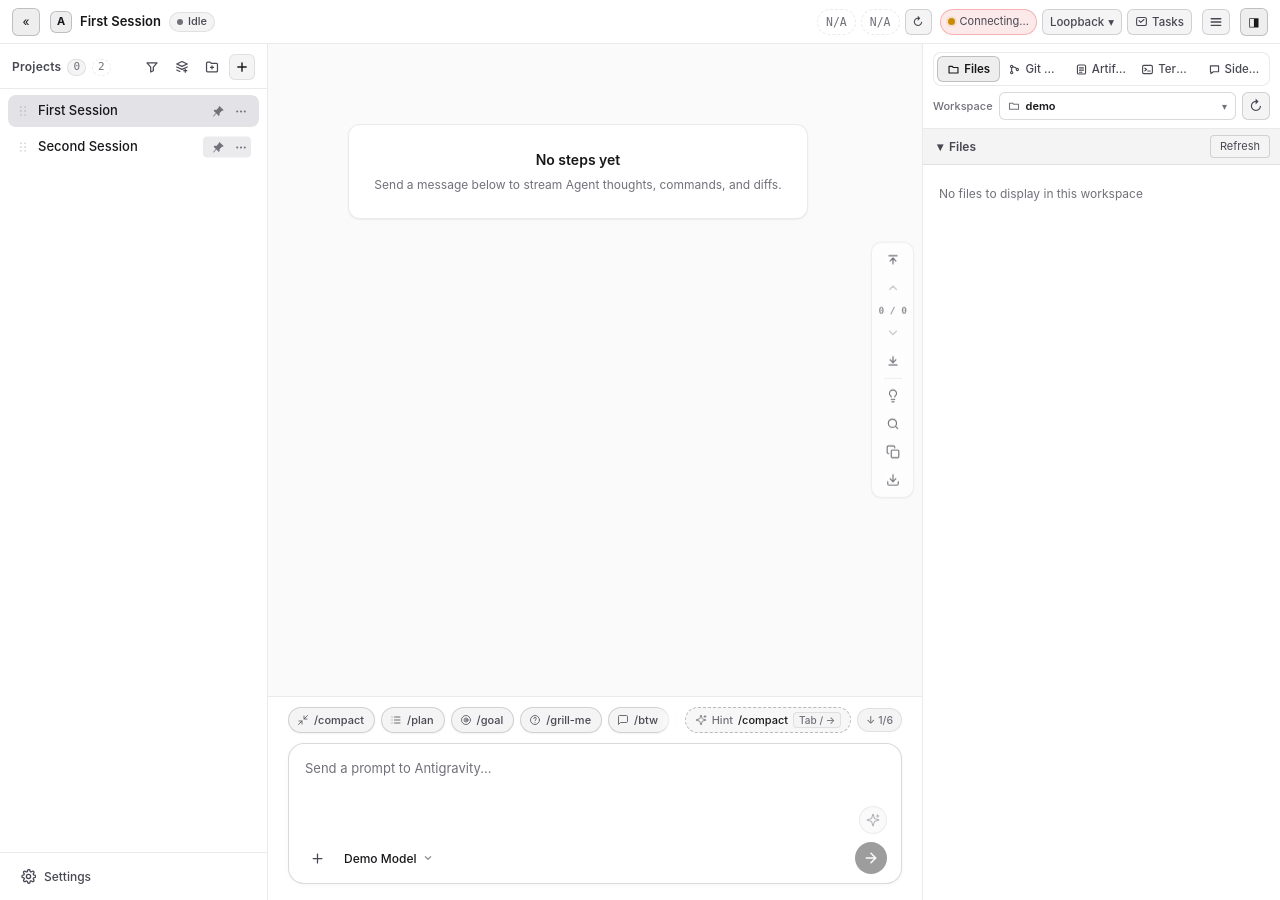
Test: App optimistic send flow › handles 503 HOST_DELETE_UNAVAILABLE fallback to local_hide with focus fallback, and SSE state:session.org@1 sync
Expected: the text with test id "topbar-session-title" reads "First Session", top-left (80, 13), bottom-right (161, 29)
Click the button with test id "session-actions-sess-1".
click(240, 111)  # box top-left (230, 100), bottom-right (251, 122)
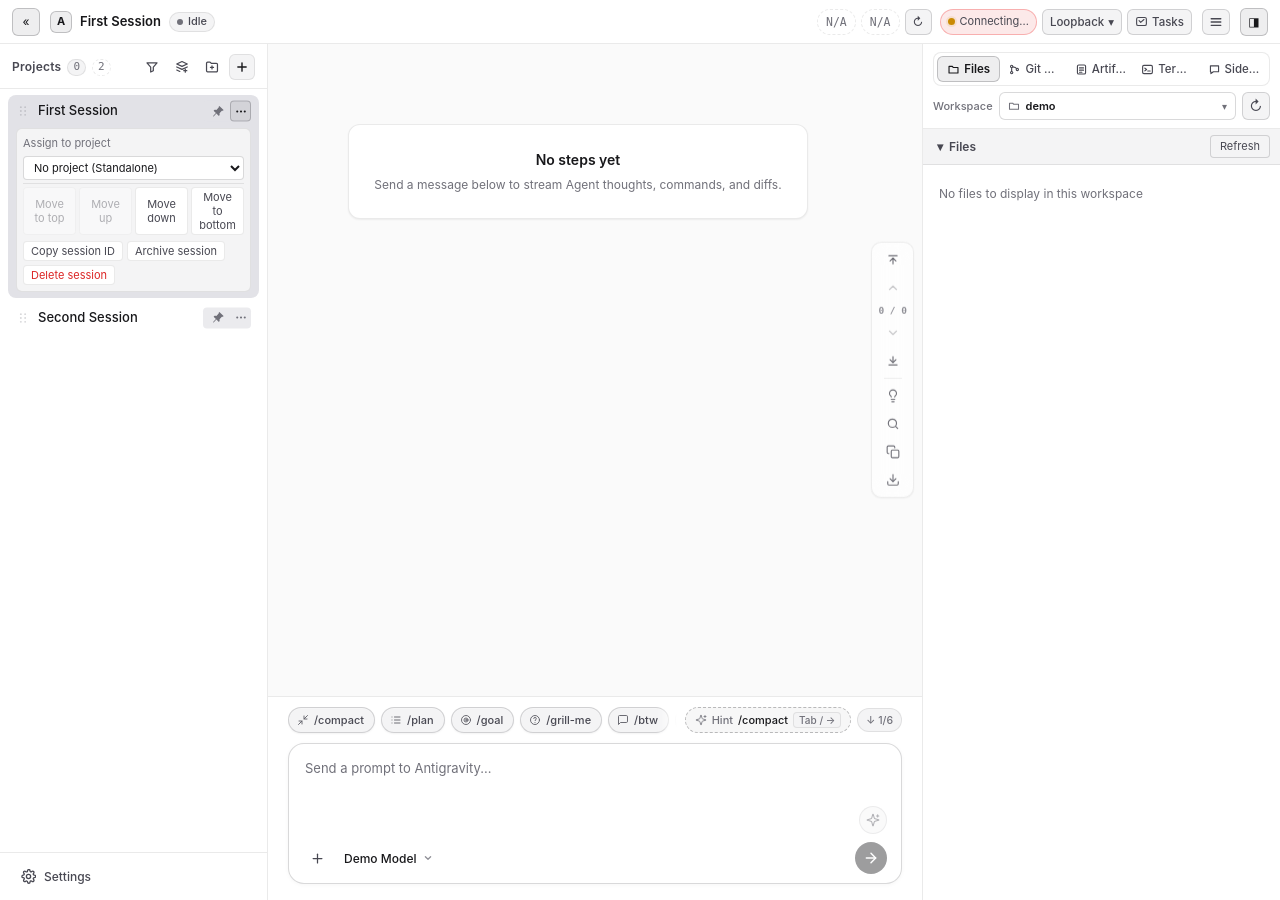
Click the button with test id "delete-session-sess-1".
click(69, 274)  # box top-left (23, 264), bottom-right (115, 284)
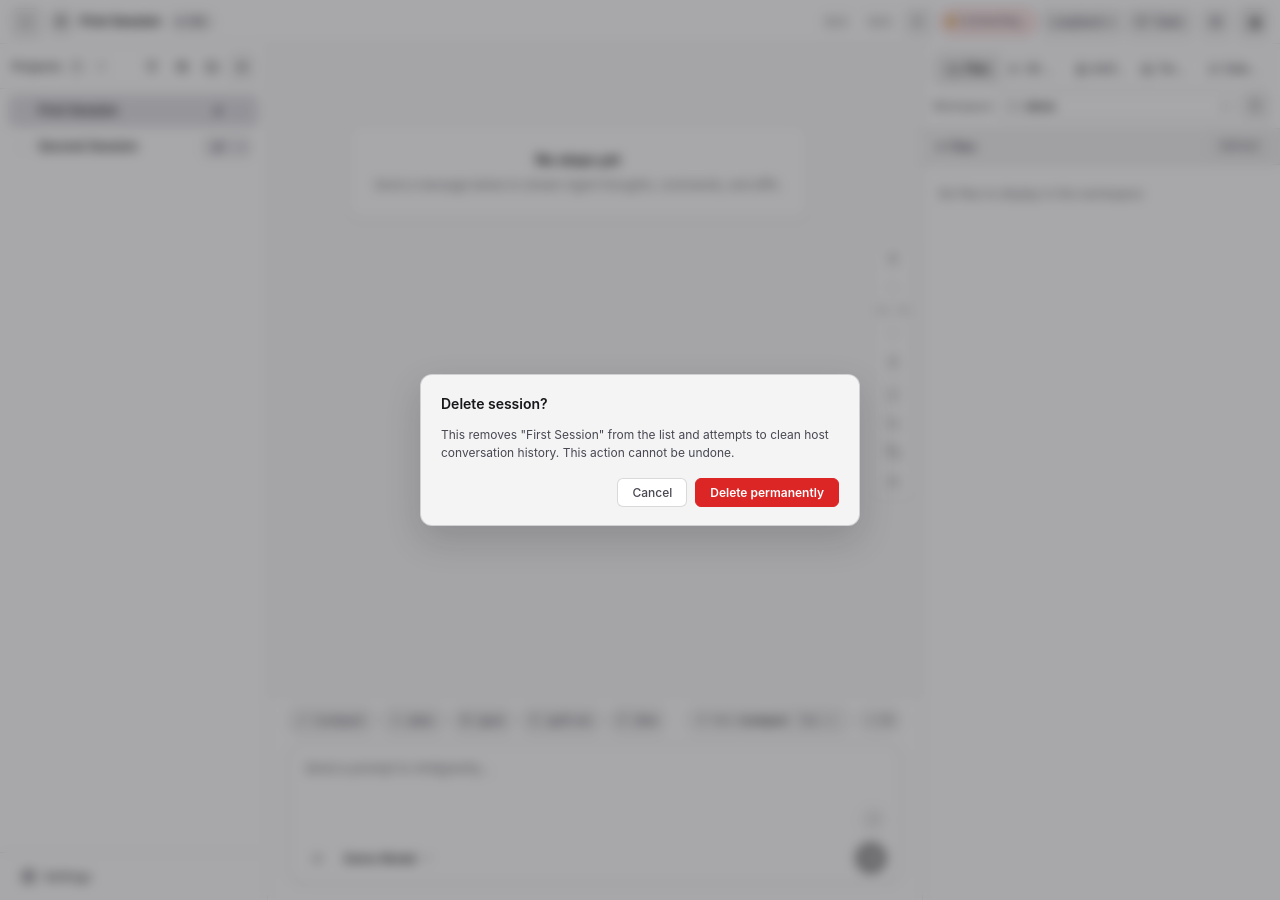
Expected: the dialog with test id "delete-session-modal" is shown, top-left (420, 374), bottom-right (860, 526)
Click the button with test id "delete-session-confirm".
click(767, 492)  # box top-left (695, 478), bottom-right (839, 507)
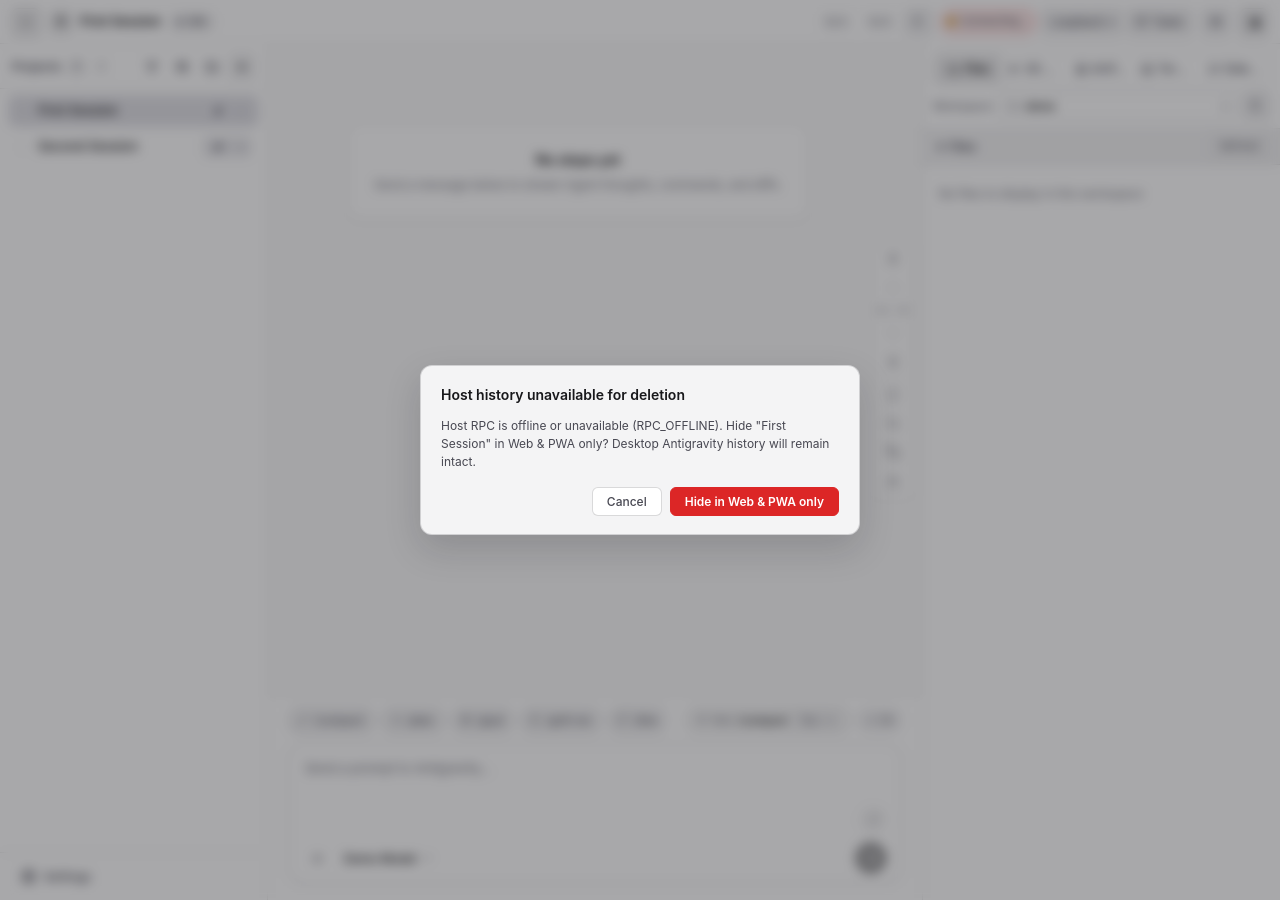
Expected: the button with test id "delete-session-hide-local" is shown
Click the button with test id "delete-session-hide-local".
click(754, 502)  # box top-left (670, 487), bottom-right (839, 516)
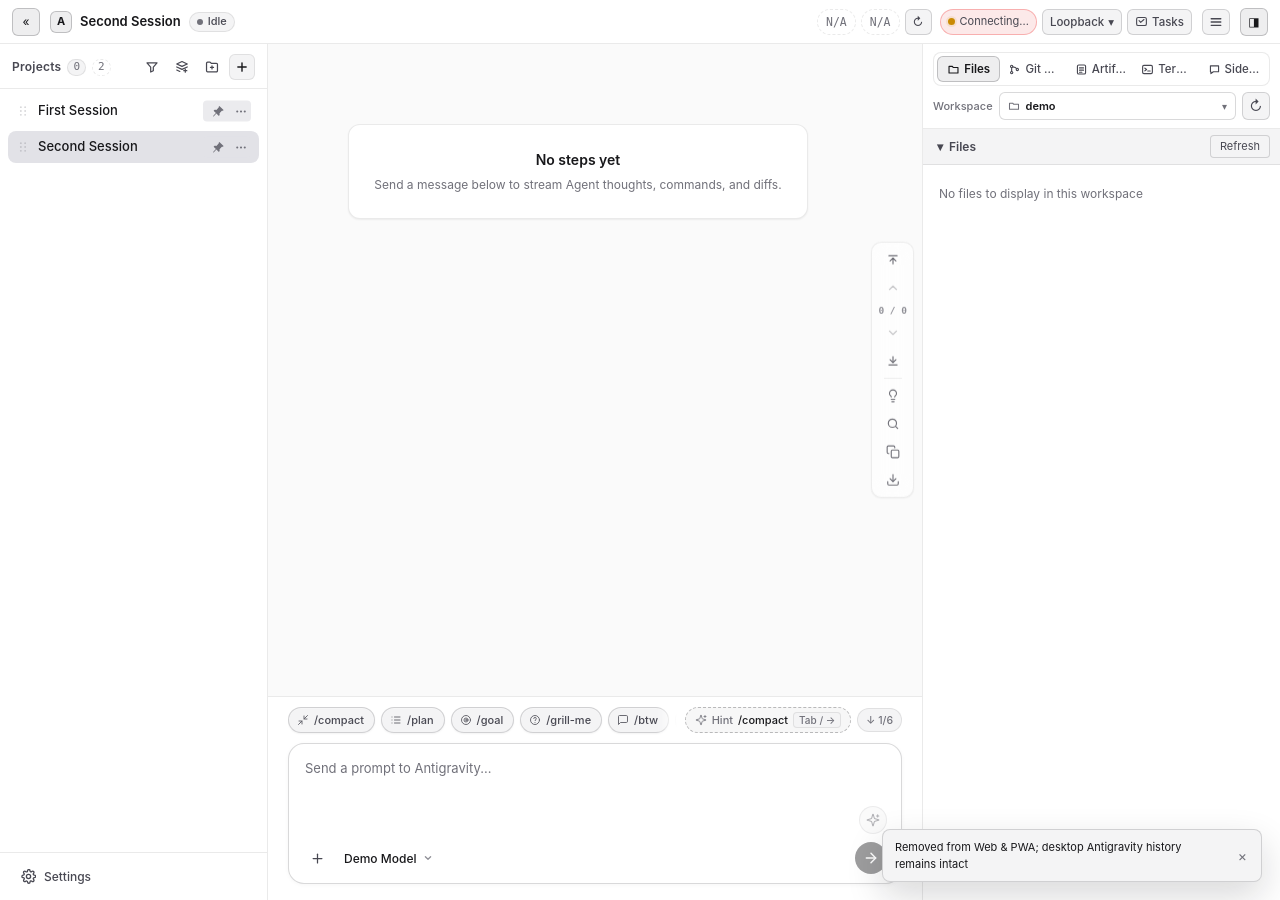
Expected: the message with test id "sidebar-toast" shows "Removed from Web & PWA; desktop Antigravity history remains intact", top-left (895, 840), bottom-right (1182, 870)
Expected: the text with test id "topbar-session-title" reads "Second Session", top-left (80, 13), bottom-right (181, 29)
